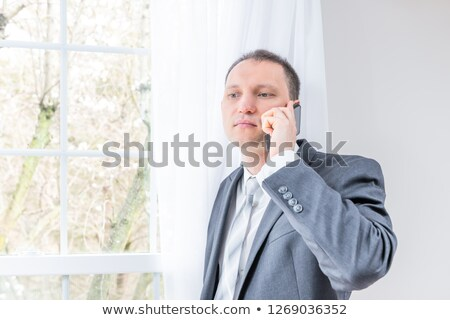phone: (266, 108, 300, 152)
talk: (224, 84, 307, 158)
